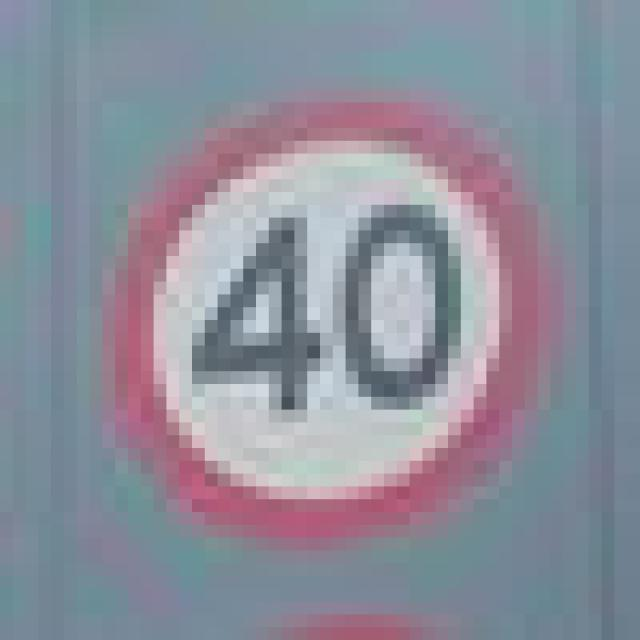SPEED_LIMIT_40: (90, 90, 524, 524)
